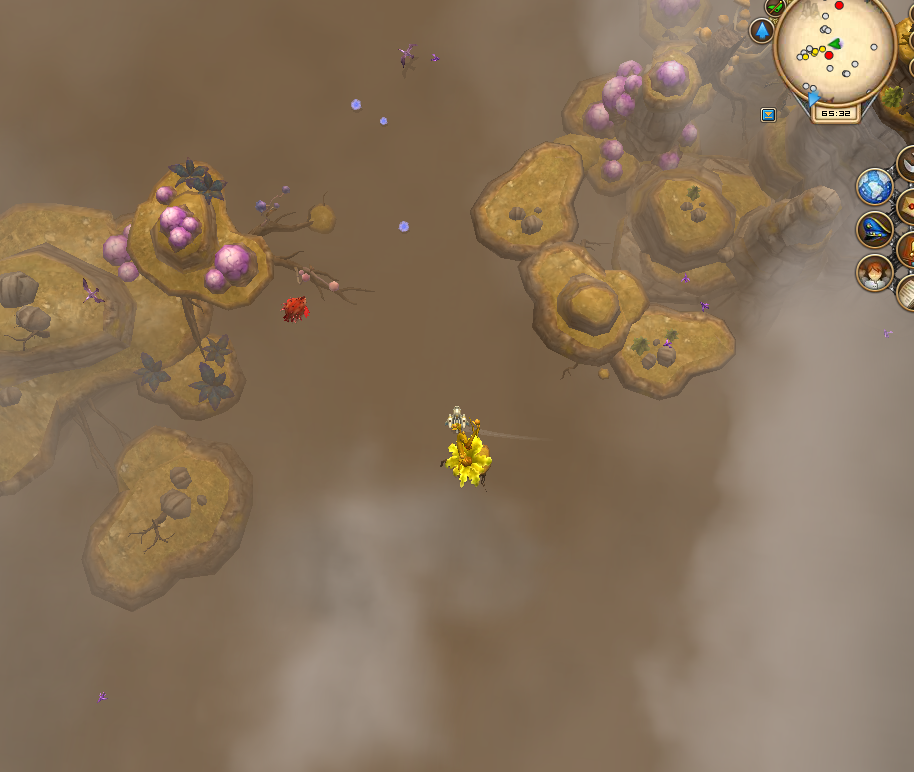dandelion-empty: (441, 410, 494, 492)
fluff: (396, 218, 412, 236), (347, 96, 363, 113), (377, 114, 390, 127)
